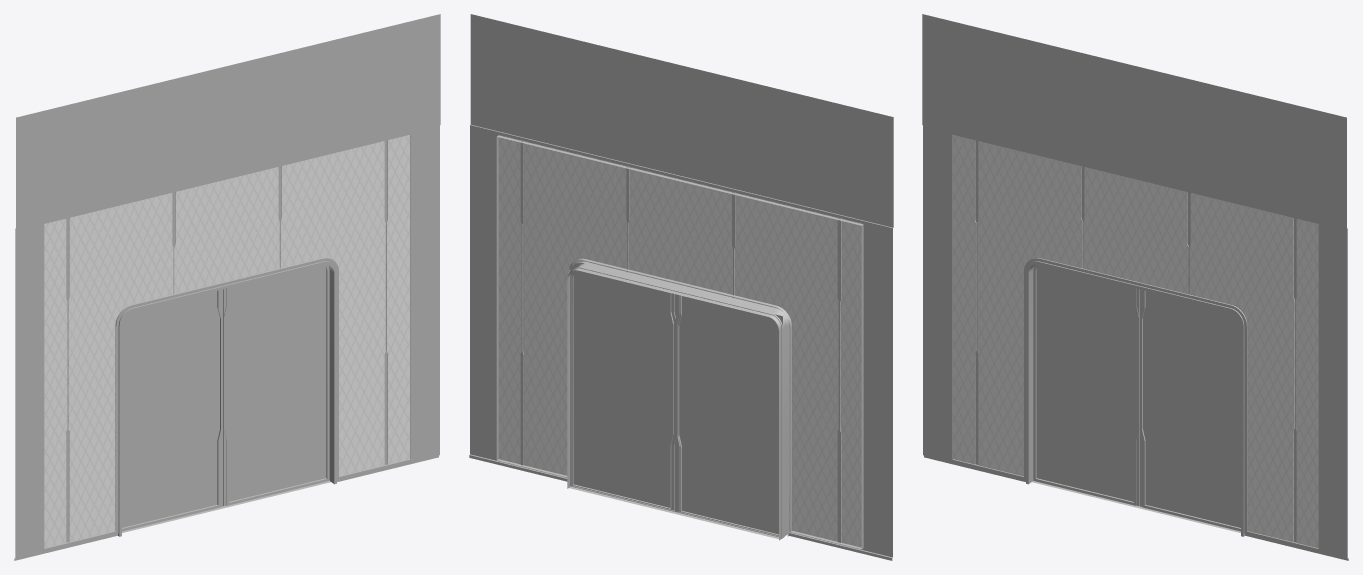
3 renders of one model, left to right at view 1: azimuth 30°, elevation 25°; view 2: azimuth 150°, elevation 25°; view 3: azimuth 330°, elevation 25°, orthographic.
Parts seen in each view (by area): view 1: M_W_102_d_8x8, M_W_102_d_8x8_window; view 2: M_W_102_d_8x8, M_W_102_d_8x8_window; view 3: M_W_102_d_8x8, M_W_102_d_8x8_window.
Boxes of the visible parts, x1,y1,x2,y2 form: M_W_102_d_8x8: [14, 14, 440, 560]; M_W_102_d_8x8_window: [122, 264, 326, 527]; M_W_102_d_8x8: [469, 14, 893, 560]; M_W_102_d_8x8_window: [572, 270, 778, 535]; M_W_102_d_8x8: [922, 14, 1348, 560]; M_W_102_d_8x8_window: [1036, 264, 1240, 527].
Size of the model in its own units: 8 by 8 by 0.3.
